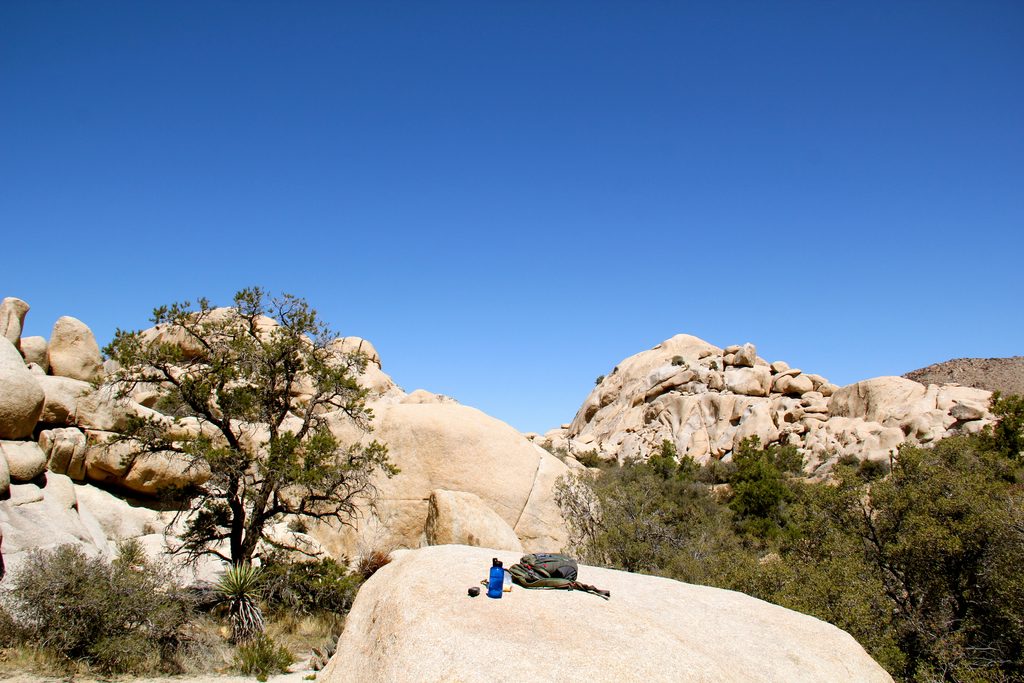Tree: (555, 387, 1023, 682), (60, 278, 396, 622), (5, 541, 184, 663)
